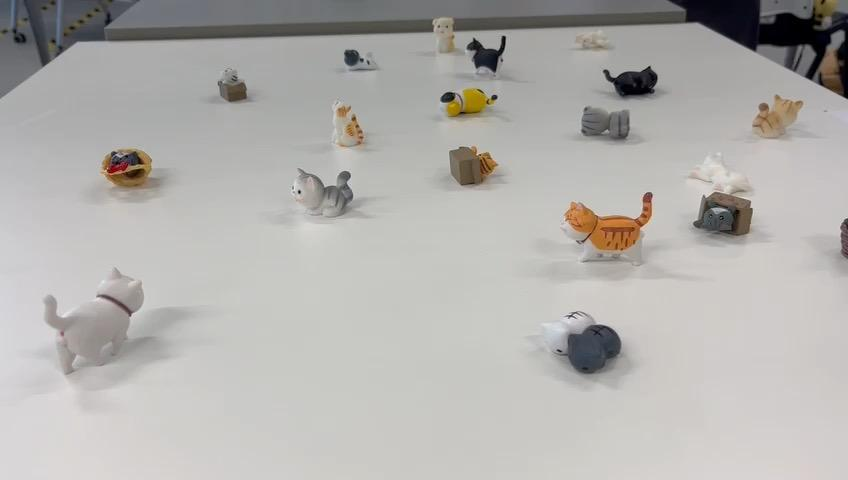pet: (40, 264, 146, 378), (560, 190, 655, 267), (542, 306, 623, 377), (291, 163, 358, 223), (690, 188, 758, 239), (686, 148, 756, 192), (748, 90, 804, 144), (99, 144, 157, 191), (446, 141, 500, 189), (435, 84, 500, 122), (598, 64, 663, 101), (580, 103, 634, 144), (464, 33, 510, 79), (329, 96, 365, 149), (570, 26, 619, 55), (215, 65, 249, 104), (340, 45, 382, 73), (432, 16, 459, 55)
